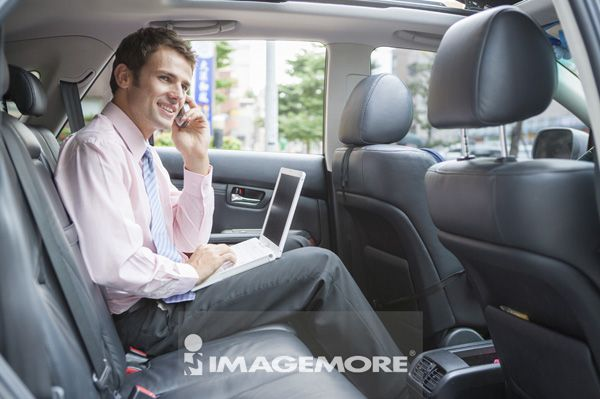talk: (145, 66, 210, 168)
